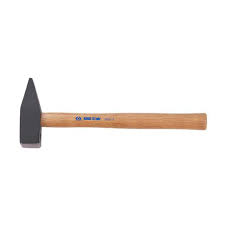hammer: (19, 77, 208, 149)
